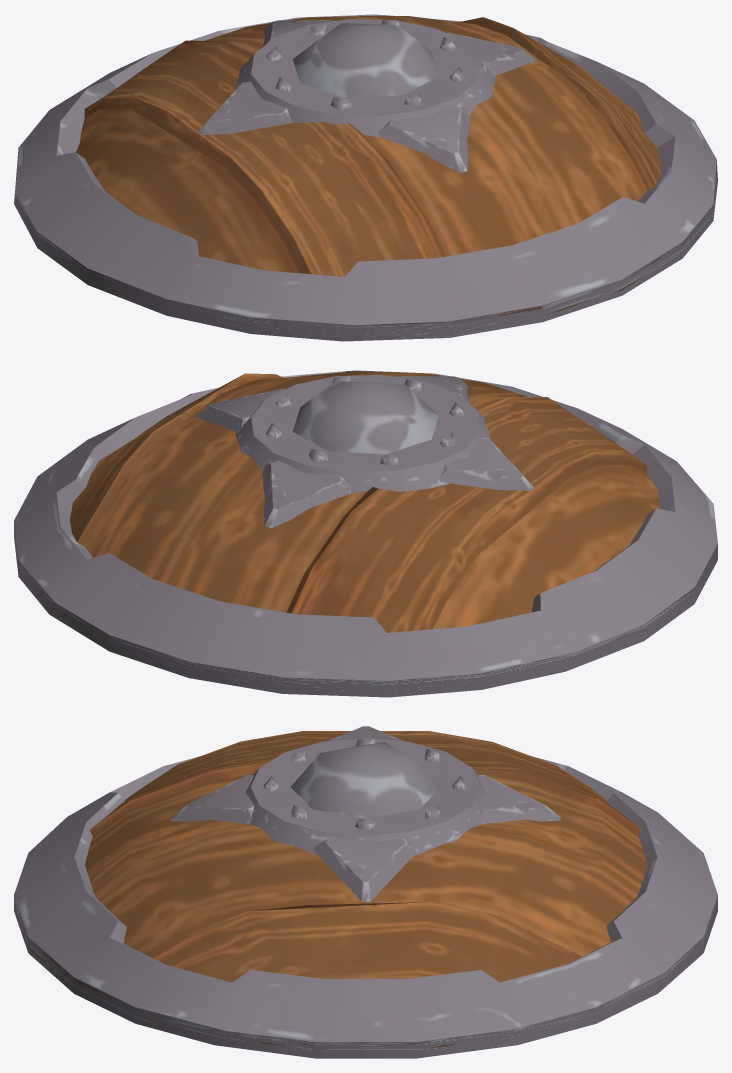
File: fp-shield-wooden-lod2.glb
3 renders of one model, top to bottom at view 1: azimuth 30°, elevation 25°; view 2: azimuth 150°, elevation 25°; view 3: azimuth 270°, elevation 25°, orthographic.
Visible parts, largest first — view 1: WeaponMesh_fp-shield-wooden_Shield_Wooden; view 2: WeaponMesh_fp-shield-wooden_Shield_Wooden; view 3: WeaponMesh_fp-shield-wooden_Shield_Wooden.
Boxes of the visible parts, box(x1,y1,x2,y2) form: WeaponMesh_fp-shield-wooden_Shield_Wooden: box(14, 14, 717, 341); WeaponMesh_fp-shield-wooden_Shield_Wooden: box(14, 370, 717, 697); WeaponMesh_fp-shield-wooden_Shield_Wooden: box(14, 726, 717, 1058).
Size of the model in its own units: 0.8909 by 0.2592 by 0.9.
Materials: 3 (3 with a texture image).
